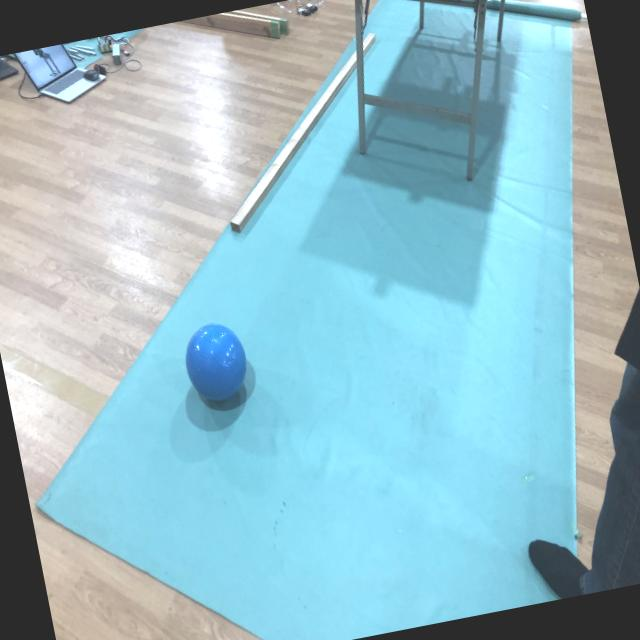blue_ball: (179, 320, 257, 412)
